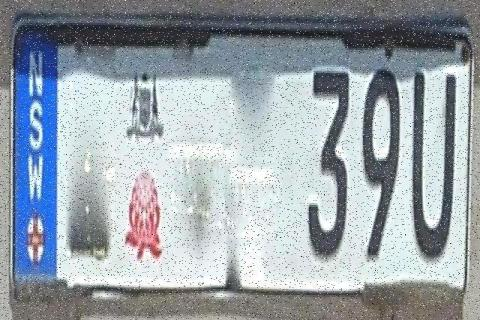LicensePlate: (9, 17, 479, 309)
